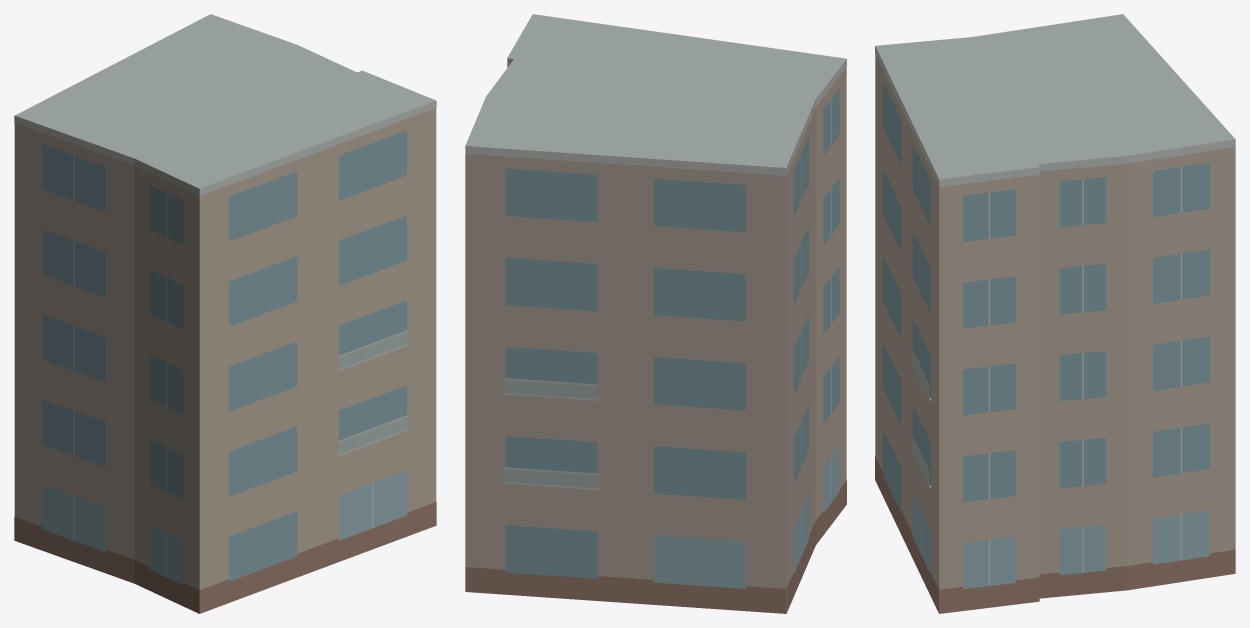
The model's file is survey-upis-32472460.glb.
3 renders of one model, left to right at view 1: azimuth 30°, elevation 25°; view 2: azimuth 150°, elevation 25°; view 3: azimuth 270°, elevation 25°, orthographic. The views are drawn at different scales.
Parts seen in each view (by area): view 1: survey-upis-32472460.tmp; view 2: survey-upis-32472460.tmp; view 3: survey-upis-32472460.tmp.
Part boxes in pixels (left/top/right/bottom): survey-upis-32472460.tmp: left=14, top=14, right=436, bottom=613; survey-upis-32472460.tmp: left=465, top=14, right=846, bottom=613; survey-upis-32472460.tmp: left=875, top=14, right=1235, bottom=613.
Size of the model in its own units: 11.36 by 13.9 by 10.46.
